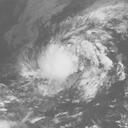cyclone: (20, 5, 120, 98)
